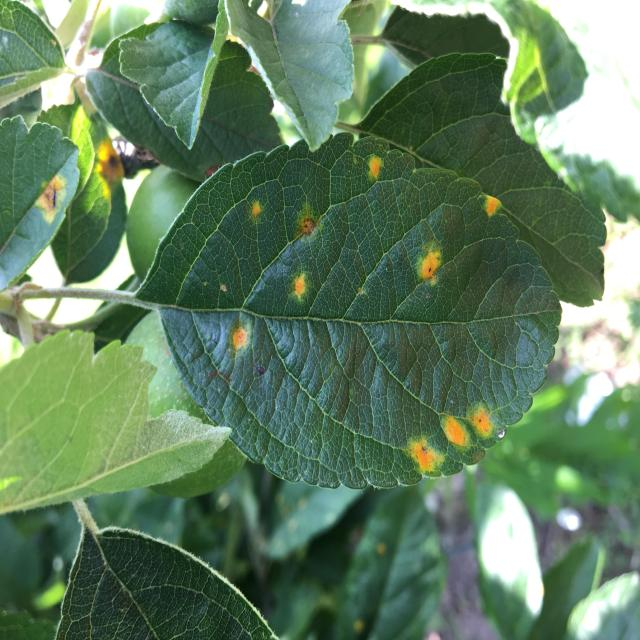Rust: (32, 161, 69, 243), (472, 392, 520, 453), (446, 399, 483, 470), (413, 237, 450, 304), (405, 428, 447, 483), (367, 145, 397, 191), (284, 267, 316, 301), (480, 184, 502, 233), (227, 318, 253, 358), (243, 193, 267, 226), (294, 212, 319, 240)
